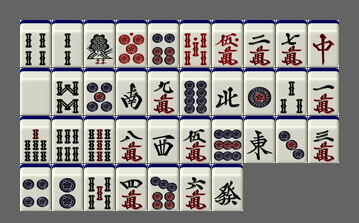0m: (212, 20, 243, 67)
0p: (116, 20, 147, 67)
0s: (180, 20, 211, 67)
1m: (308, 68, 339, 115)
1p: (244, 68, 275, 115)
1s: (84, 20, 115, 67)
1z: (244, 116, 275, 163)
2m: (244, 20, 275, 67)
2p: (52, 164, 83, 211)
2s: (52, 20, 83, 67)
2z: (116, 68, 147, 115)
3m: (308, 116, 339, 163)
3p: (276, 116, 307, 163)
3s: (276, 68, 307, 115)
3z: (148, 116, 179, 163)
4m: (116, 164, 147, 211)
4p: (20, 164, 51, 211)
4s: (20, 20, 51, 67)
4z: (212, 68, 243, 115)
5m: (180, 116, 211, 163)
5p: (84, 68, 115, 115)
5s: (84, 164, 115, 211)
5z: (20, 68, 51, 115)
6m: (180, 164, 211, 211)
6p: (148, 20, 179, 67)
6s: (52, 116, 83, 163)
6z: (212, 164, 243, 211)
7m: (276, 20, 307, 67)
7p: (148, 164, 179, 211)
7s: (20, 116, 51, 163)
7z: (308, 20, 339, 67)
8m: (116, 116, 147, 163)
8p: (180, 68, 211, 115)
8s: (52, 68, 83, 115)
9m: (148, 68, 179, 115)
9p: (212, 116, 243, 163)
9s: (84, 116, 115, 163)
